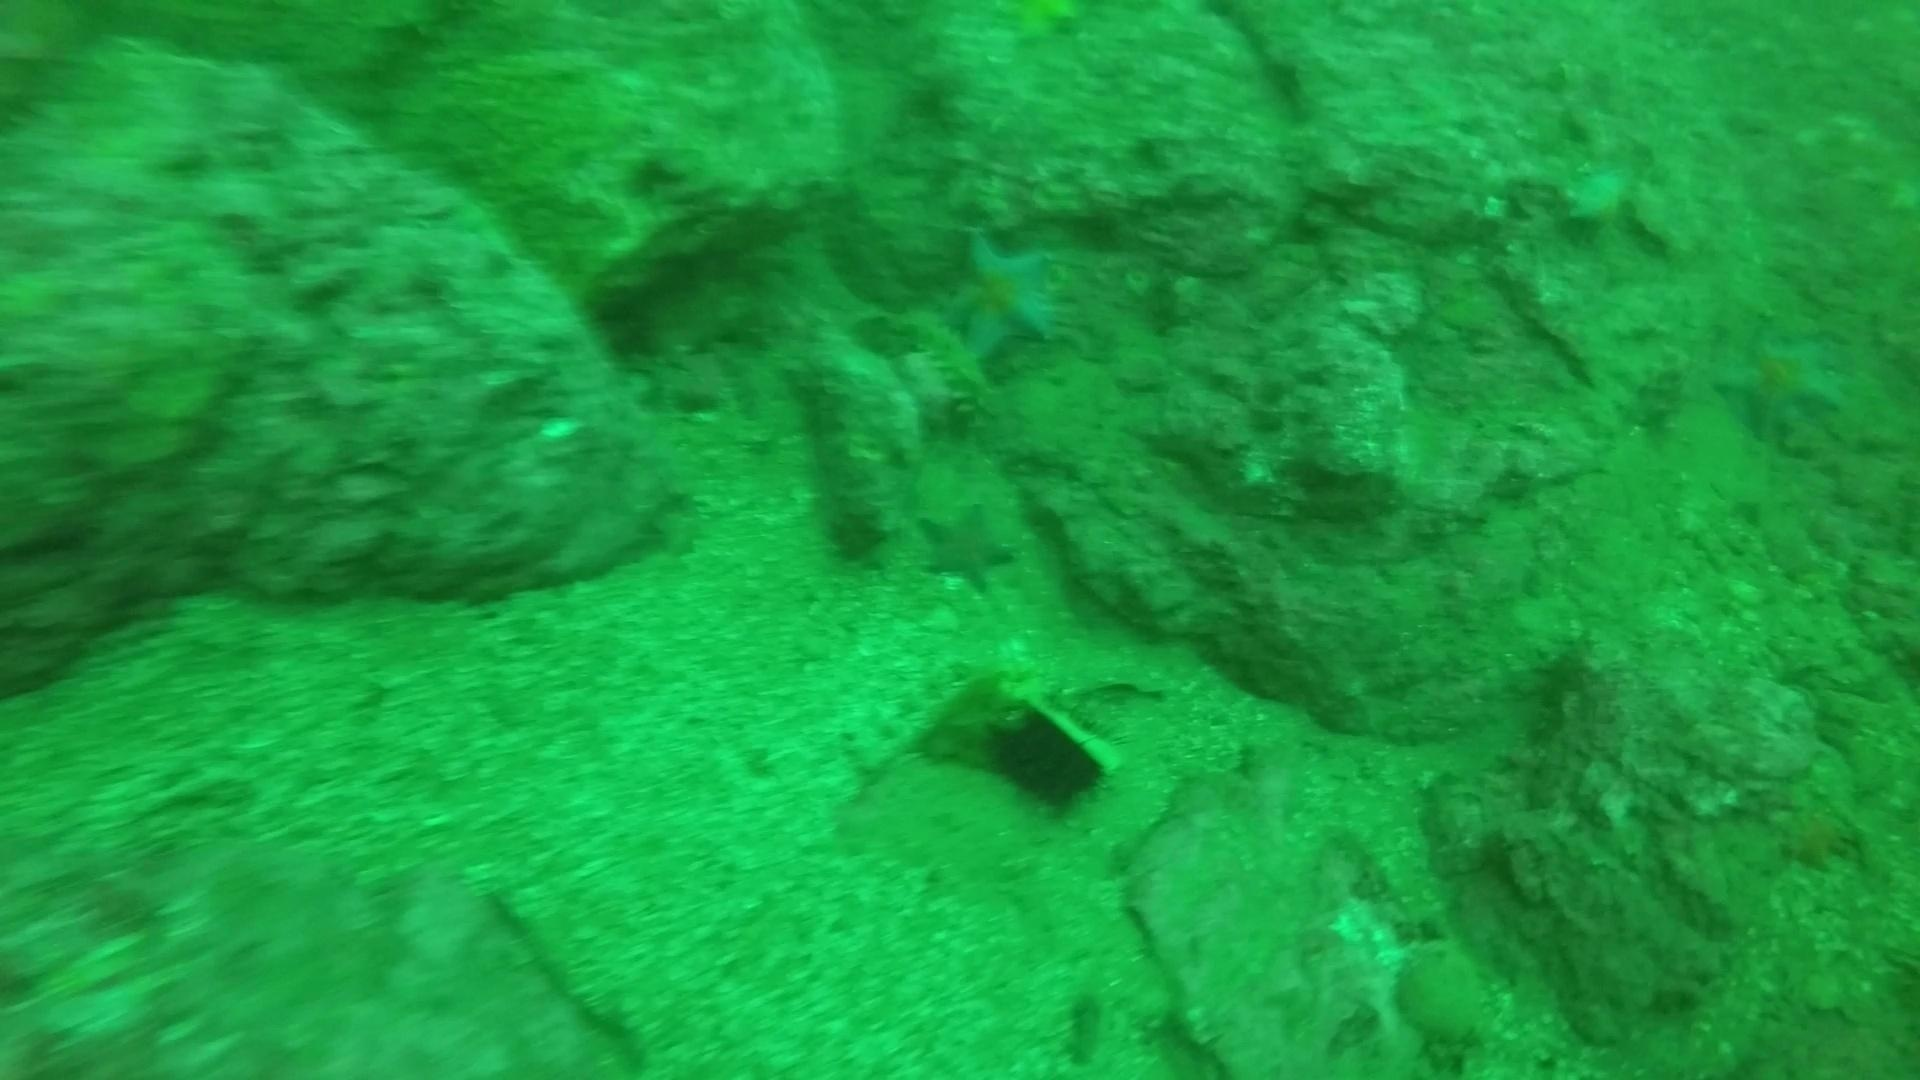echinus: (975, 709, 1117, 833)
holothurian: (889, 297, 998, 417)
starfish: (930, 224, 1071, 371), (1708, 316, 1854, 448), (913, 495, 1025, 593), (1764, 796, 1867, 876)
